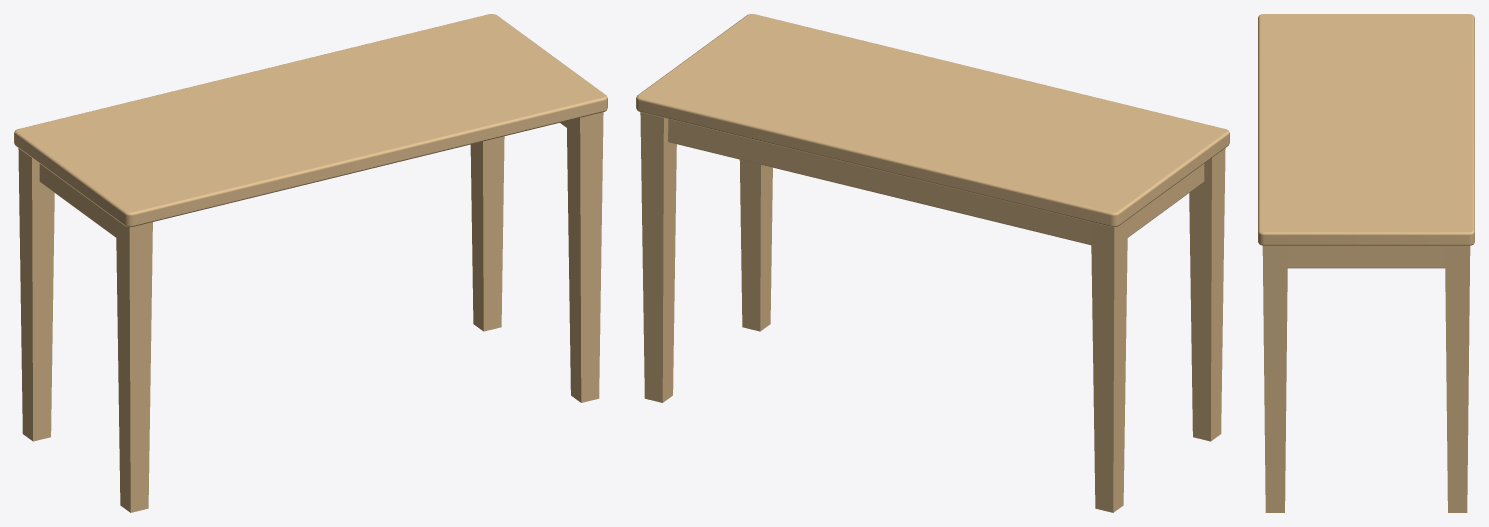
Rendered from desk_wood__w120.glb.
The picture shows the model from 3 angles, left to right: view 1: azimuth 30°, elevation 25°; view 2: azimuth 150°, elevation 25°; view 3: azimuth 270°, elevation 25°; orthographic projection. The views are drawn at different scales.
Parts seen in each view (by area): view 1: desk_wood__w120; view 2: desk_wood__w120; view 3: desk_wood__w120.
Boxes of the visible parts, left/top/right/bottom form: desk_wood__w120: left=14, top=14, right=607, bottom=512; desk_wood__w120: left=636, top=14, right=1229, bottom=512; desk_wood__w120: left=1258, top=14, right=1474, bottom=512.
Size of the model in its own units: 1.2 by 0.72 by 0.5.
